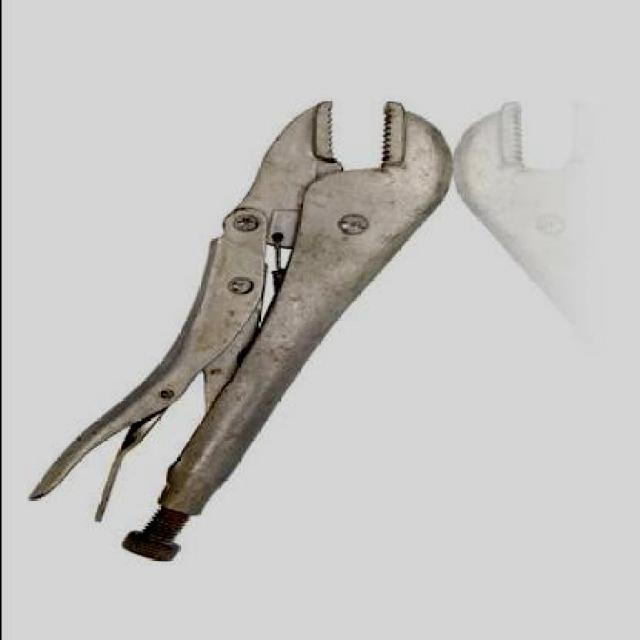pliers: (28, 95, 460, 568)
